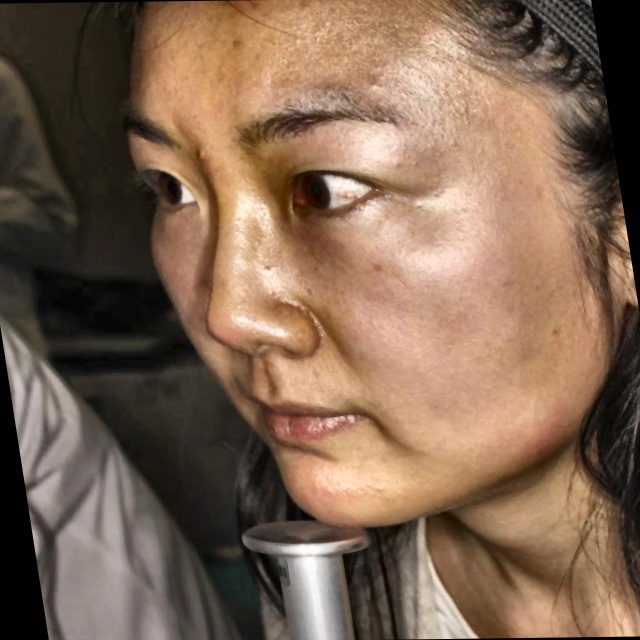comedone: (302, 480, 335, 504), (187, 145, 215, 165)
